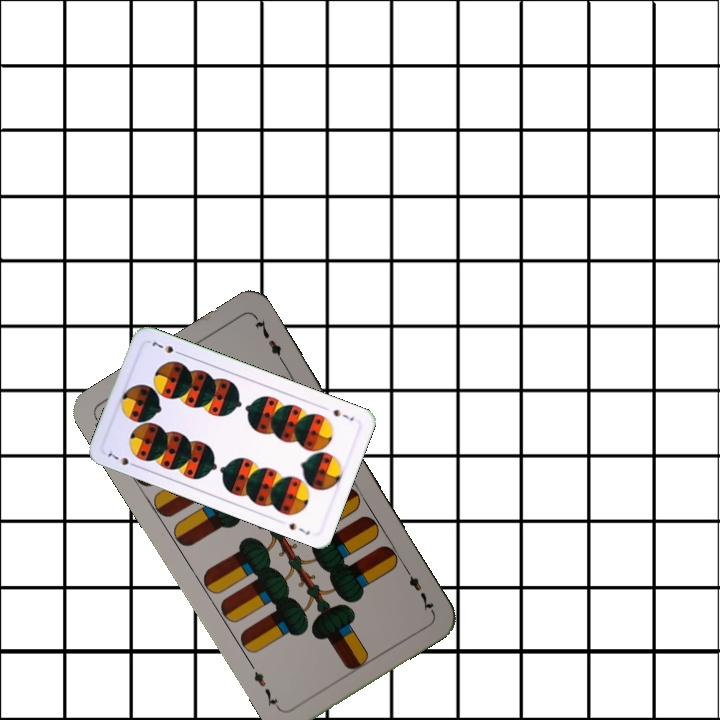E7: (399, 561, 437, 615)
S7: (104, 448, 141, 470), (329, 405, 357, 423)
